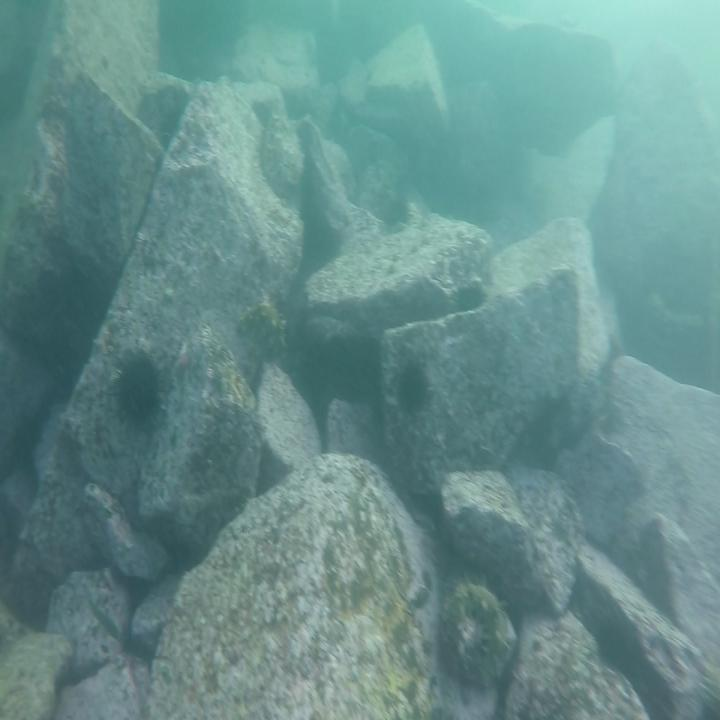echinus: (111, 351, 157, 431), (396, 358, 436, 421)
holothurian: (444, 577, 508, 681), (238, 299, 290, 358)
